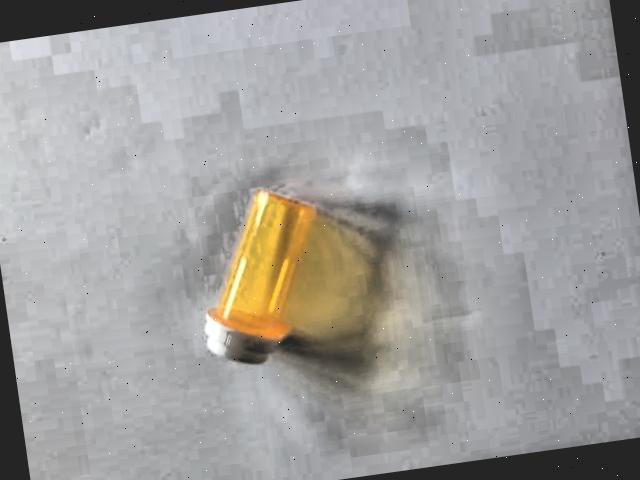Plastic: (156, 156, 348, 406)
